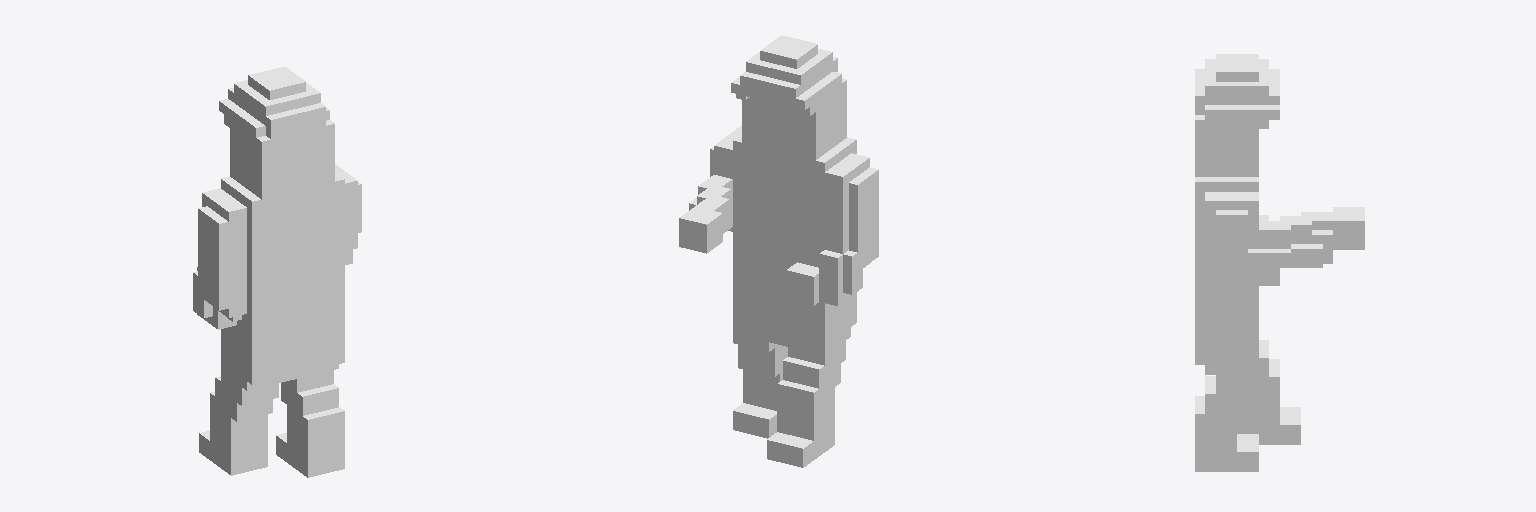
Rendered from person-0.obj.
The picture shows the model from 3 angles: view 1: azimuth 30°, elevation 25°; view 2: azimuth 150°, elevation 25°; view 3: azimuth 270°, elevation 25°; orthographic projection.
Visible parts, largest first — view 1: object 1; view 2: object 1; view 3: object 1.
Boxes of the visible parts, x1,y1,x2,y2 form: object 1: [193, 66, 361, 477]; object 1: [679, 35, 878, 467]; object 1: [1195, 54, 1364, 471].
Size of the model in its own units: 1.6 by 4 by 1.6.